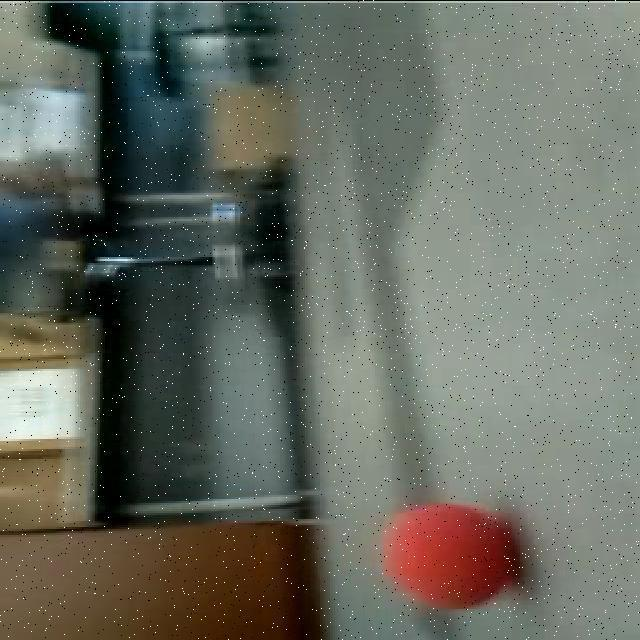ping-pong-ball: (381, 501, 521, 611)
